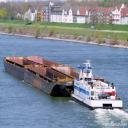tugboat: (71, 60, 125, 114)
